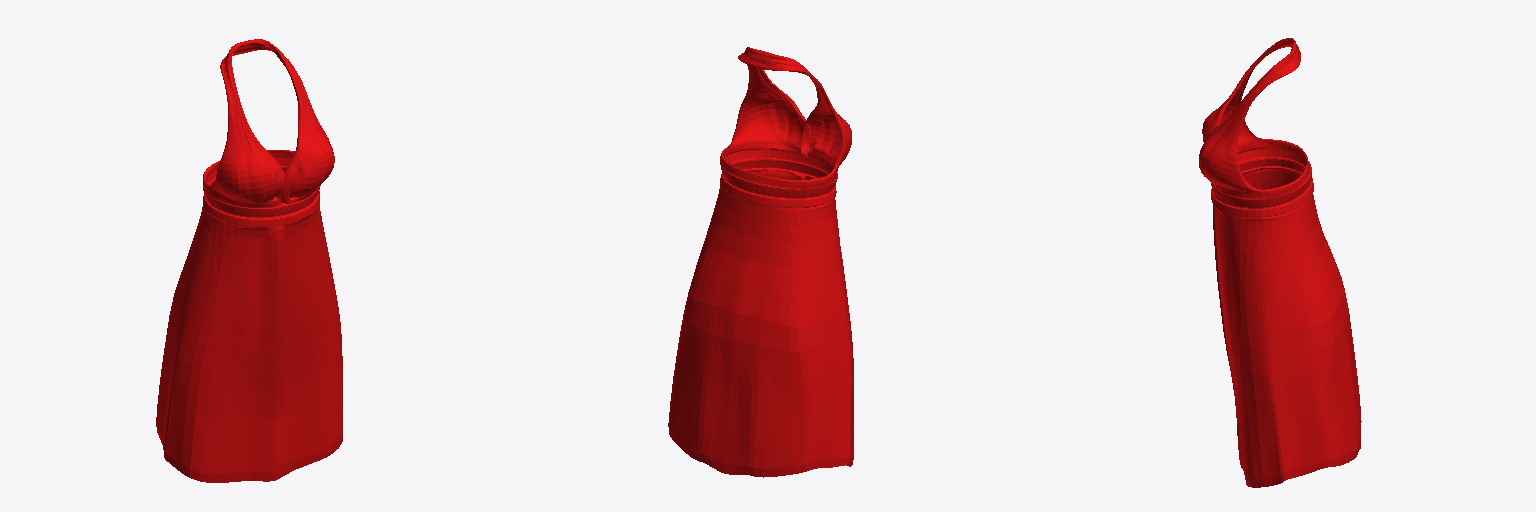
The model's file is changqun3.obj.
3 views of the same model, side by side, from view 1: azimuth 30°, elevation 25°; view 2: azimuth 150°, elevation 25°; view 3: azimuth 270°, elevation 25° (orthographic).
Parts seen in each view (by area): view 1: changqun; view 2: changqun; view 3: changqun.
Boxes of the visible parts, box(x1,y1,x2,y2) form: changqun: box(156, 39, 342, 482); changqun: box(668, 47, 853, 477); changqun: box(1199, 38, 1361, 487).
Bounding box in the file's own units: 2.76 × 6.4 × 2.24.